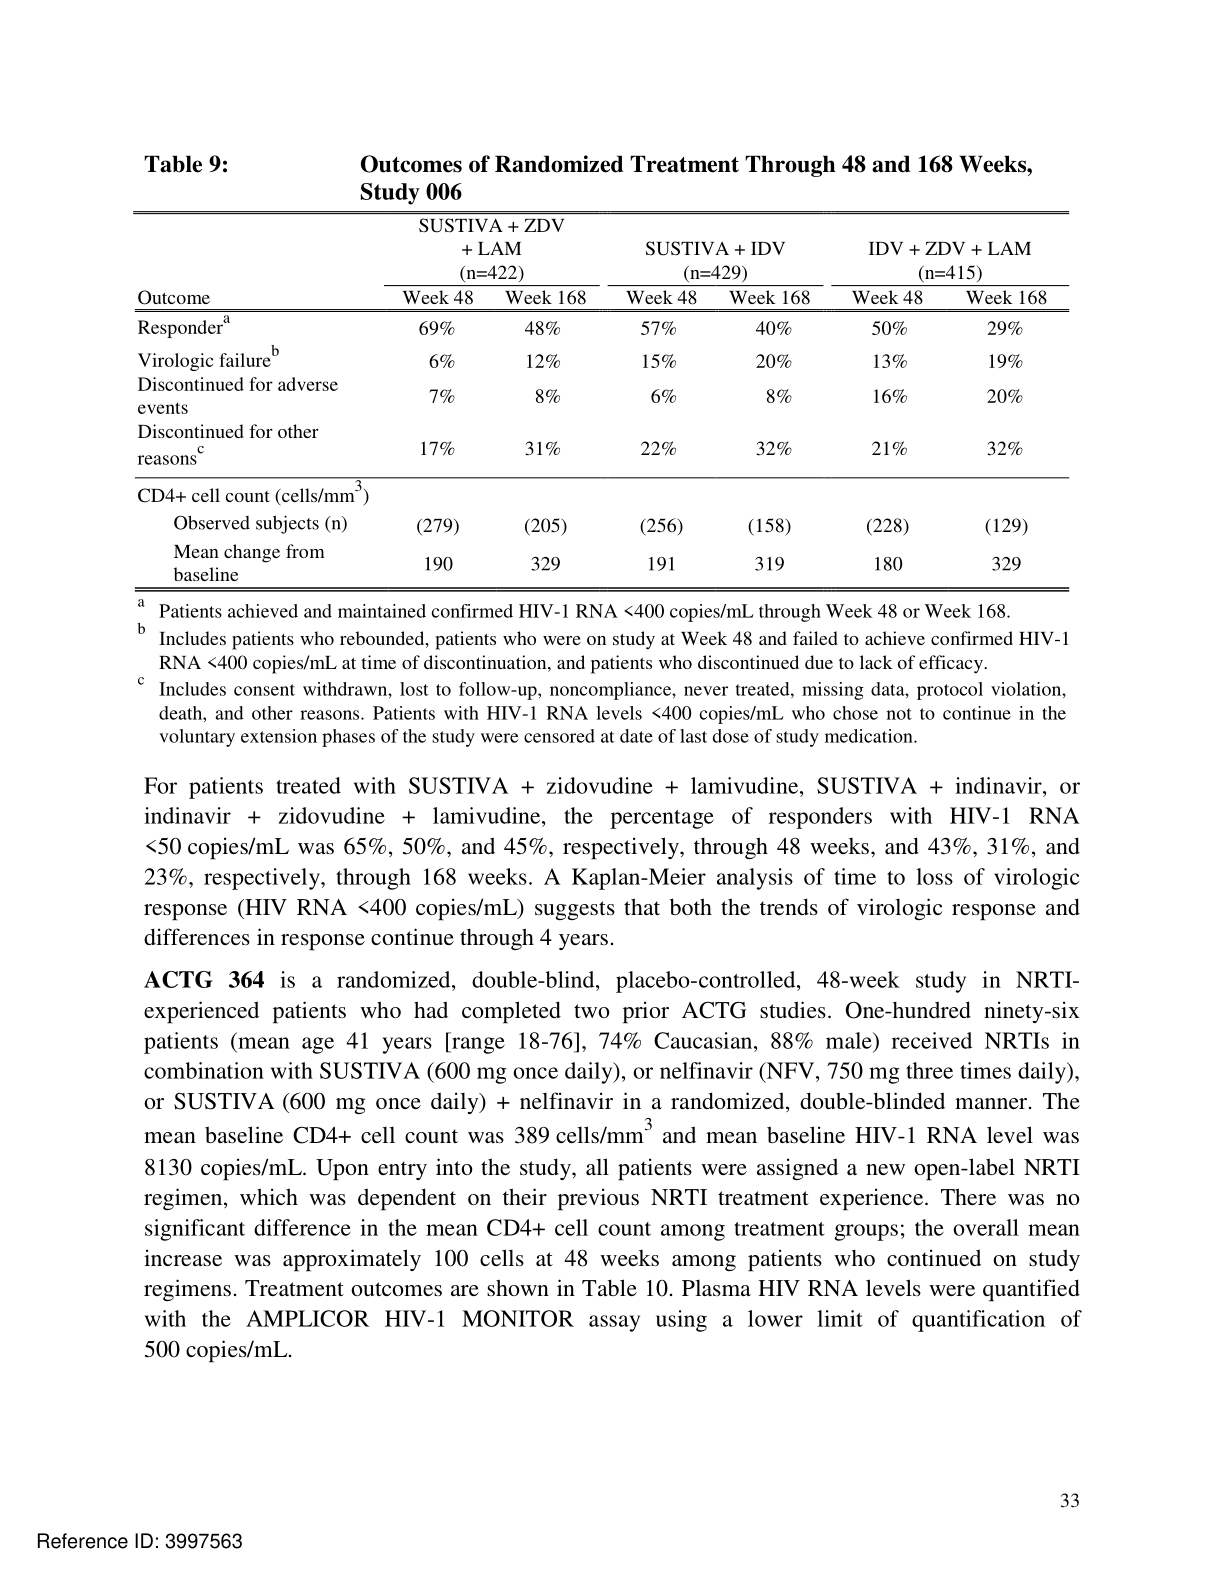partial_lined_merged_cells: (132, 210, 1071, 591)
